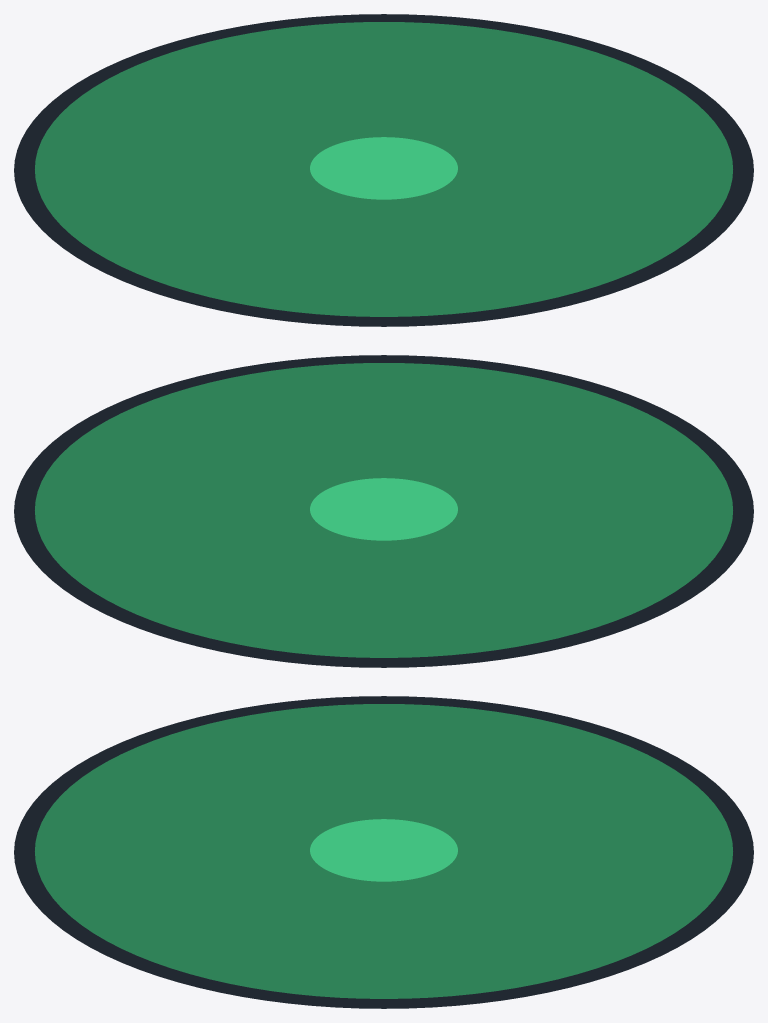
3 views of the same model, one above another, from view 1: azimuth 30°, elevation 25°; view 2: azimuth 150°, elevation 25°; view 3: azimuth 270°, elevation 25° (orthographic).
Size of what is drawn, in the model's own units: 3.2 by 0.01 by 3.2.
3 materials, 3 textured.
